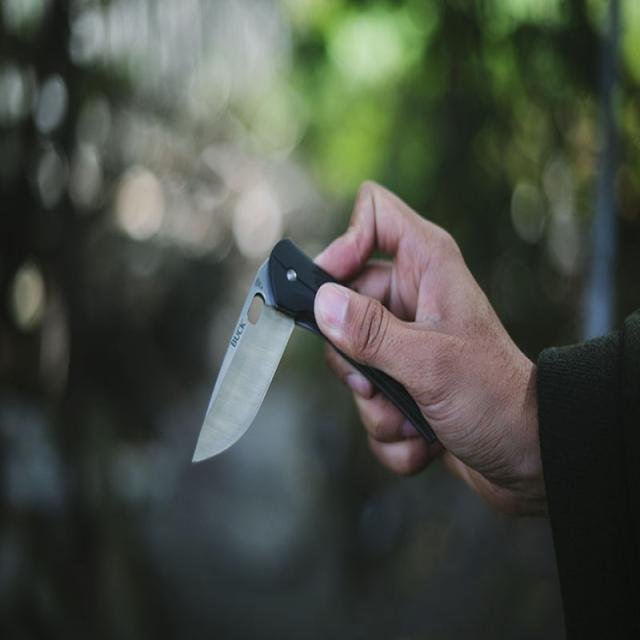knife: (182, 228, 318, 470)
